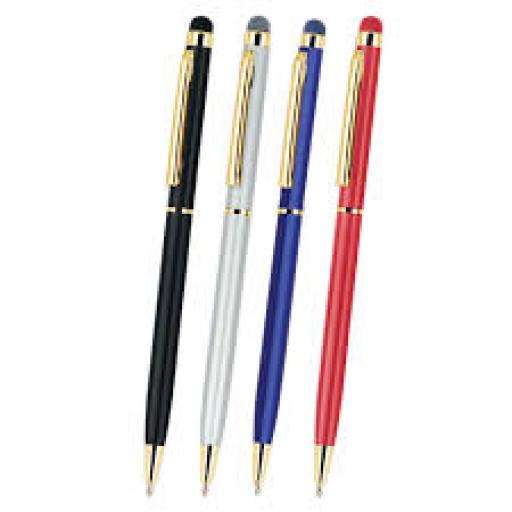tukenmez-kalem: (132, 0, 375, 502)
